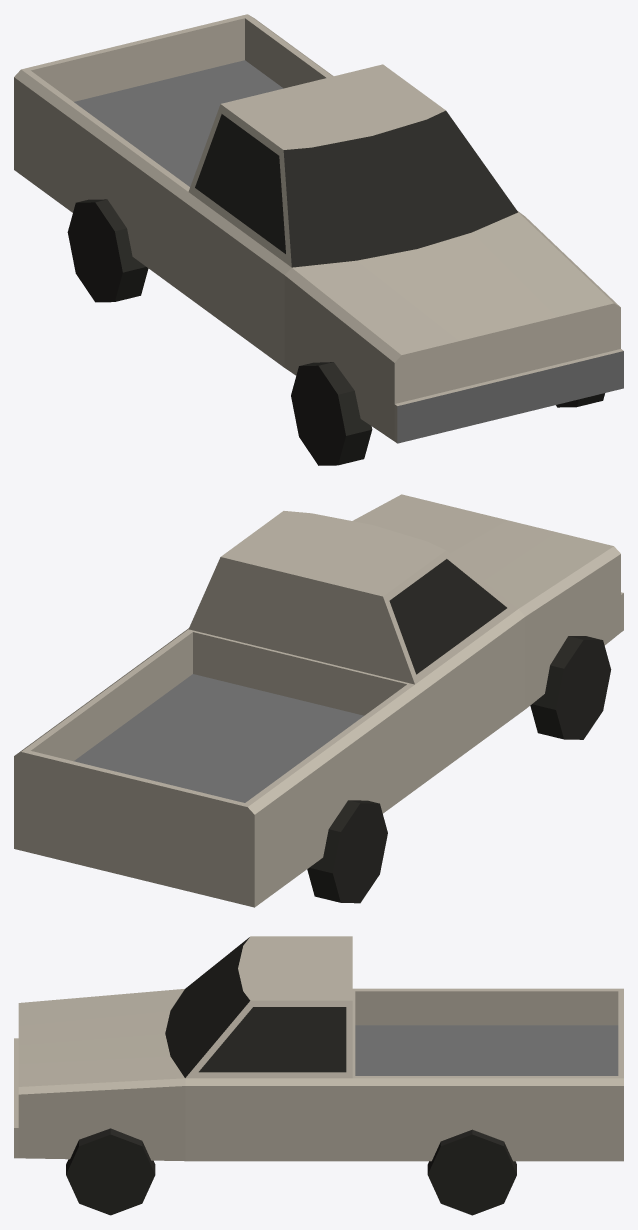
Rendered from Pickup.glb.
3 views of the same model, one above another, from view 1: azimuth 30°, elevation 25°; view 2: azimuth 150°, elevation 25°; view 3: azimuth 270°, elevation 25° (orthographic). The views are drawn at different scales.
Parts seen in each view (by area): view 1: Cylinder; view 2: Cylinder; view 3: Cylinder.
Boxes of the visible parts, box(x1,y1,x2,y2) form: Cylinder: box(14, 14, 623, 465); Cylinder: box(14, 494, 623, 907); Cylinder: box(14, 936, 623, 1215).
Bounding box in the file's own units: 3.16 × 2.73 × 7.76.
Materials: 2 (2 with a texture image).
